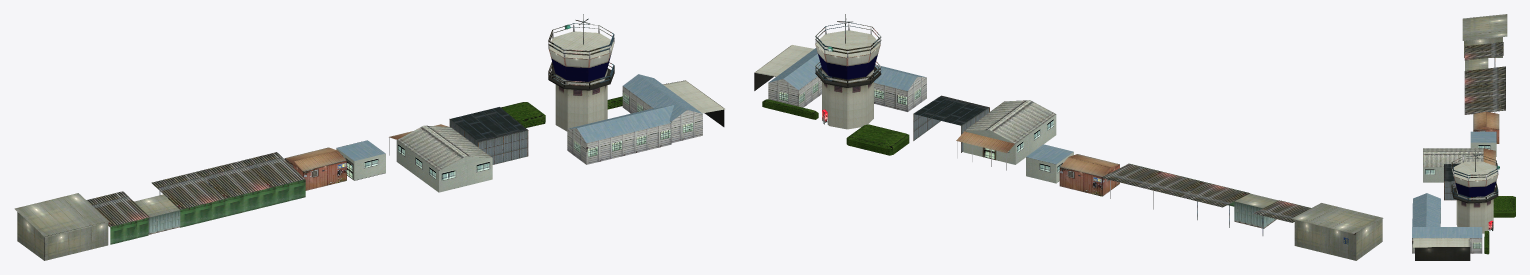
File: ct-llhz.gltf
3 renders of one model, left to right at view 1: azimuth 30°, elevation 25°; view 2: azimuth 150°, elevation 25°; view 3: azimuth 270°, elevation 25°, orthographic. The views are drawn at different scales.
Parts seen in each view (by area): view 1: node8, node1, node2, node9, node6, node7; view 2: node8, node1, node9, node2, node6, node7; view 3: node8, node1, node7, node9, node6, node2, node5.
Part boxes in pixels (x1,y1,x2,y2): node8: (14, 24, 725, 260); node1: (86, 152, 305, 227); node2: (449, 107, 528, 164); node9: (501, 96, 622, 127); node6: (548, 14, 614, 86); node7: (548, 63, 724, 126); node8: (755, 30, 1383, 260); node1: (1101, 163, 1310, 235); node9: (762, 99, 909, 155); node2: (913, 95, 989, 152); node6: (815, 14, 881, 84); node7: (754, 46, 881, 90); node8: (1412, 14, 1507, 253); node1: (1464, 42, 1505, 114); node7: (1415, 184, 1498, 260); node9: (1484, 196, 1515, 254); node6: (1451, 150, 1498, 200); node2: (1444, 163, 1460, 200); node5: (1451, 112, 1498, 180).
Size of the model in its own units: 103 by 16.86 by 19.91.
